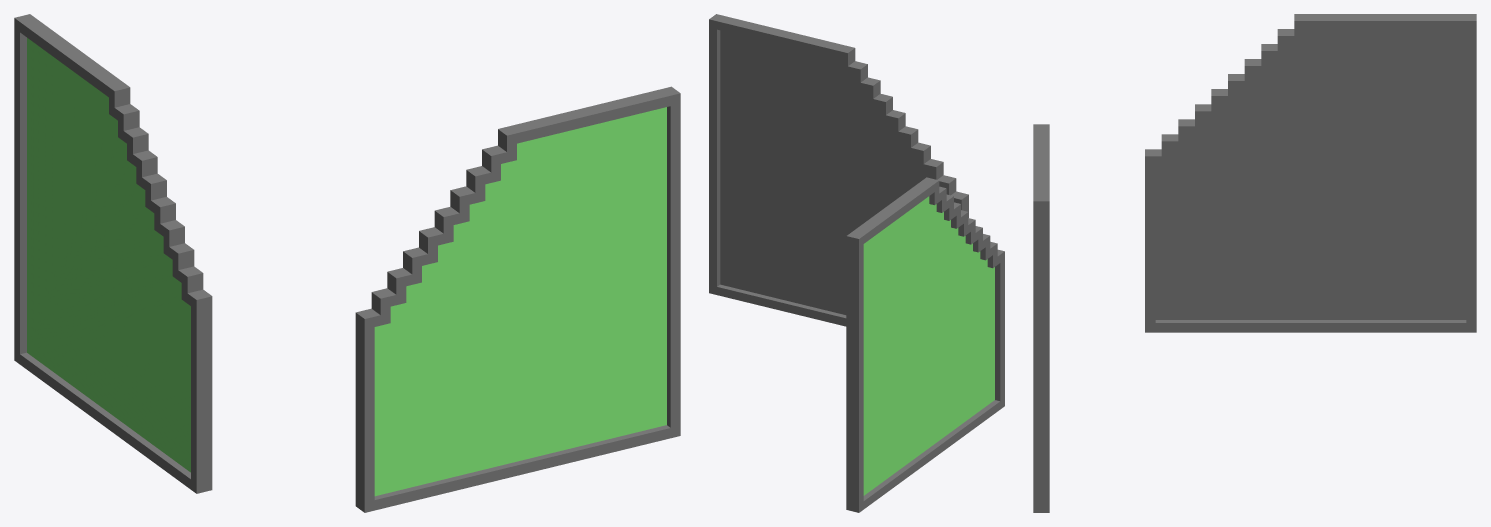
3 renders of one model, left to right at view 1: azimuth 30°, elevation 25°; view 2: azimuth 150°, elevation 25°; view 3: azimuth 270°, elevation 25°, orthographic. The views are drawn at different scales.
Visible parts, largest first — view 1: Box004, Box005; view 2: Box004, Box005; view 3: Box005, Box004.
Boxes of the visible parts, x1,y1,x2,y2 form: Box004: (355, 86, 680, 512); Box005: (14, 14, 212, 493); Box004: (709, 14, 968, 326); Box005: (846, 177, 1004, 512); Box005: (1145, 14, 1476, 332); Box004: (1033, 124, 1049, 512).
Size of the model in its own units: 1070 by 829 by 1070.
